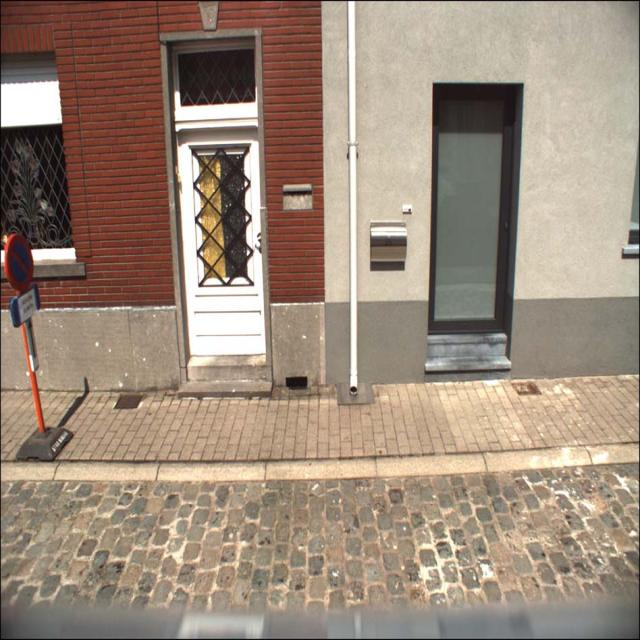parkyasak: (5, 233, 35, 290)
